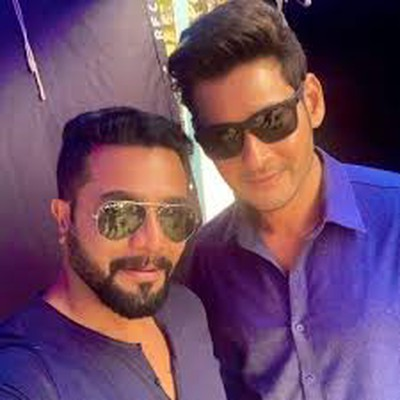eywear: (175, 82, 332, 167), (85, 179, 218, 254)
